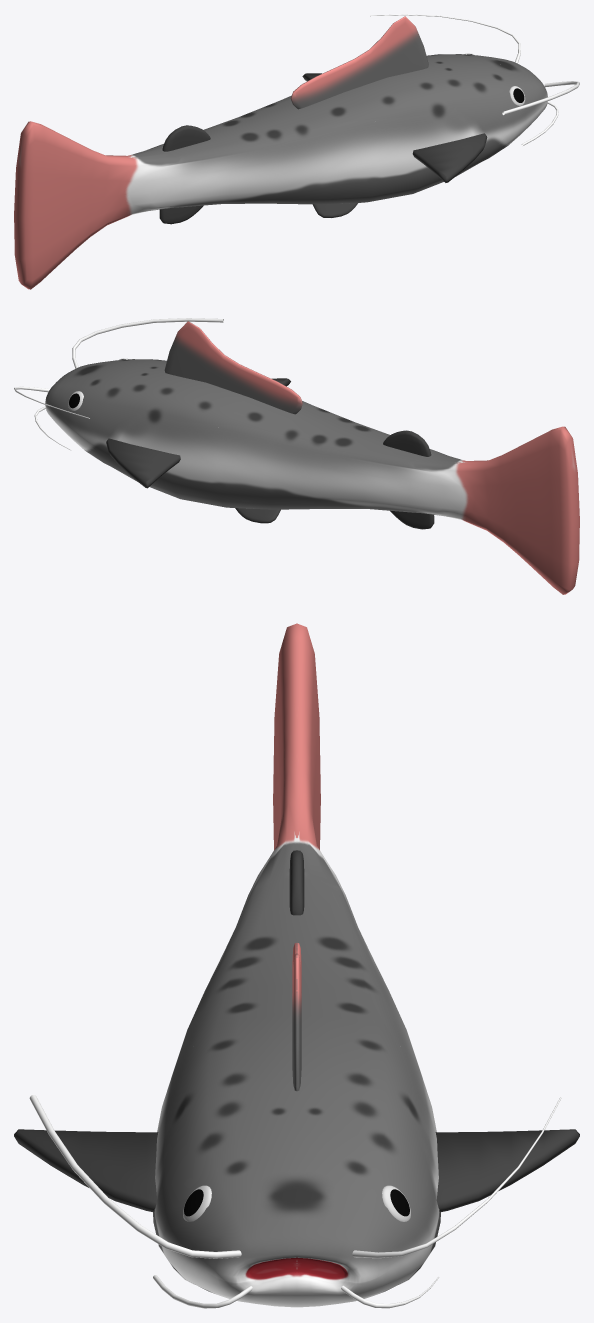
The model's file is catfish.gltf.
The picture shows the model from 3 angles, top to bottom: view 1: azimuth 30°, elevation 25°; view 2: azimuth 150°, elevation 25°; view 3: azimuth 270°, elevation 25°; orthographic projection. The views are drawn at different scales.
Visible parts, largest first — view 1: Cube, Plane.001, Plane, Vert.004, Plane.002, Plane.003, Plane.004; view 2: Cube, Plane.001, Plane, Vert.004, Plane.002, Plane.003, Plane.004; view 3: Cube, Plane, Vert.004, eye.001, Plane.001, Vert.005, Plane.002.
Boxes of the visible parts, left/top/right/bottom form: Cube: left=14, top=54, right=547, bottom=289; Plane.001: left=290, top=16, right=428, bottom=109; Plane: left=302, top=73, right=487, bottom=182; Vert.004: left=370, top=14, right=579, bottom=115; Plane.002: left=162, top=125, right=210, bottom=151; Plane.003: left=159, top=205, right=203, bottom=224; Plane.004: left=312, top=202, right=358, bottom=217; Cube: left=45, top=359, right=579, bottom=594; Plane.001: left=164, top=321, right=302, bottom=414; Plane: left=106, top=378, right=290, bottom=488; Vert.004: left=14, top=318, right=223, bottom=418; Plane.002: left=383, top=430, right=431, bottom=456; Plane.003: left=390, top=510, right=434, bottom=529; Plane.004: left=235, top=508, right=280, bottom=523; Cube: left=153, top=623, right=440, bottom=1307; Plane: left=14, top=1129, right=579, bottom=1212; Vert.004: left=29, top=1095, right=561, bottom=1258; eye.001: left=183, top=1185, right=410, bottom=1221; Plane.001: left=292, top=942, right=301, bottom=1091; Vert.005: left=153, top=1275, right=439, bottom=1308; Plane.002: left=289, top=850, right=304, bottom=915.
Bounding box in the file's own units: 9.54 × 3.11 × 4.45.
Materials: 6 (2 with a texture image).
